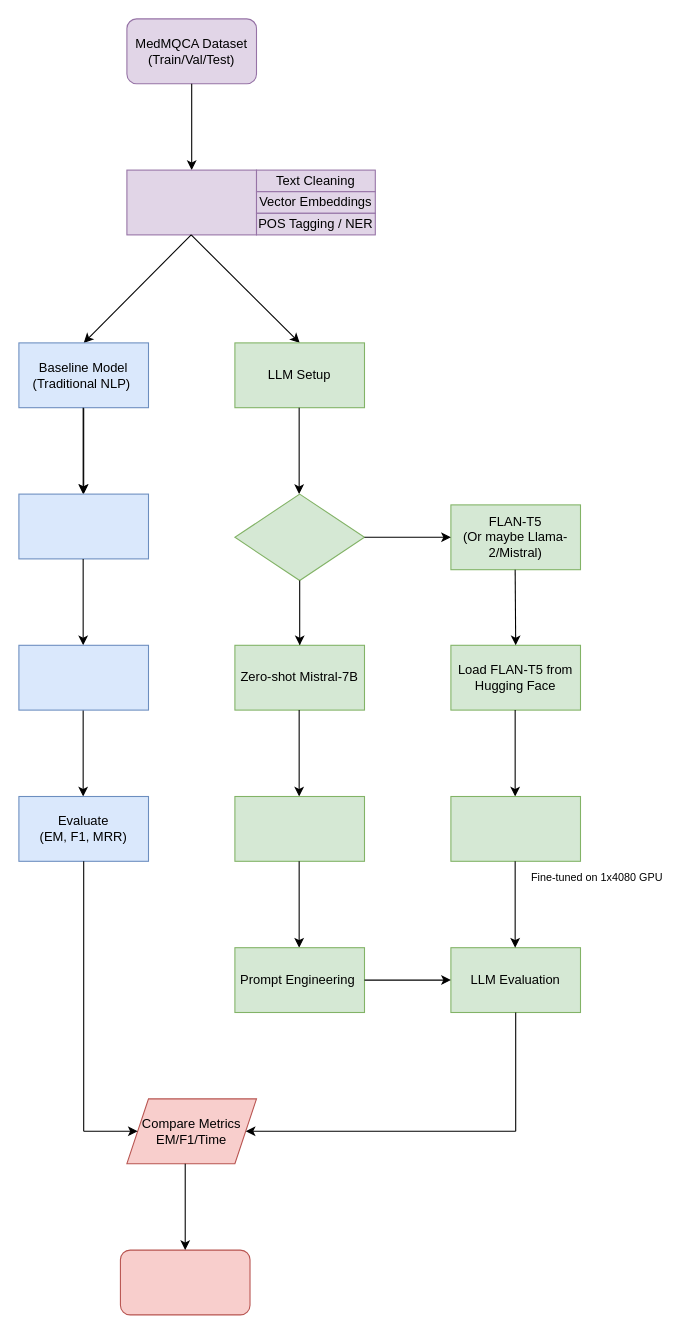
This 697x1334 diagram has some shape labels left out. The shapes that lost their labels are listed below. From the top down, each one's centre as x and y in pixels, then its label:
the point at 191,202: Preprocessing
the point at 83,526: Feature Engineering (TF-IDF, GloVe)
the point at 299,536: LLM Strategy?
the point at 83,677: Train Classifier (SVM, Random Forest)
the point at 299,828: Load Minstral-7B from Hugging Face
the point at 515,828: Fine Tune on MedMCQA Train
the point at 184,1282: Conclusion: Best Method
